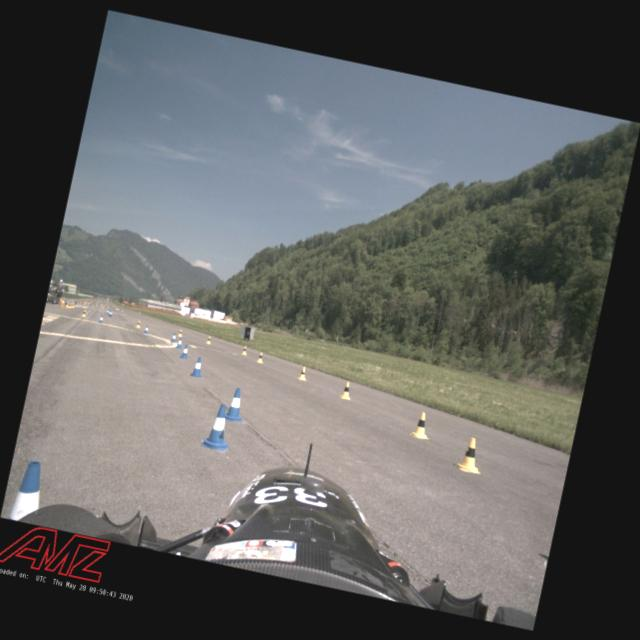blue_cone: (7, 457, 50, 524), (199, 401, 236, 452), (222, 386, 247, 422), (190, 356, 206, 378), (178, 343, 190, 359), (175, 336, 184, 348), (170, 332, 178, 343), (143, 324, 150, 334), (97, 314, 104, 323), (109, 310, 112, 316), (108, 310, 111, 316), (106, 308, 109, 314), (107, 310, 110, 315)
yellow_cone: (452, 434, 488, 474), (408, 410, 434, 440), (338, 380, 354, 400), (297, 365, 308, 381), (256, 351, 265, 363), (241, 345, 248, 355), (81, 308, 88, 318), (177, 328, 183, 337), (206, 335, 212, 344), (135, 320, 141, 328), (60, 296, 66, 302), (68, 302, 72, 308), (70, 302, 74, 308), (66, 302, 69, 306), (72, 303, 74, 308)
